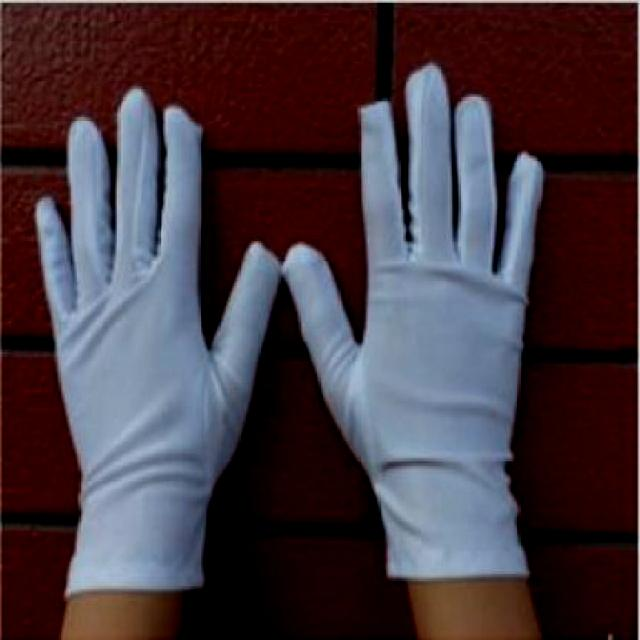hand_glove: (287, 61, 545, 492), (34, 81, 278, 512)
